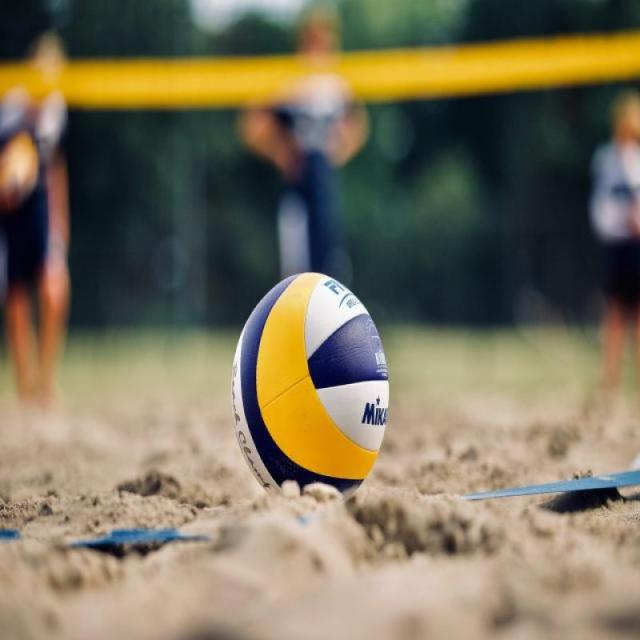volleyball: (228, 268, 392, 504)
